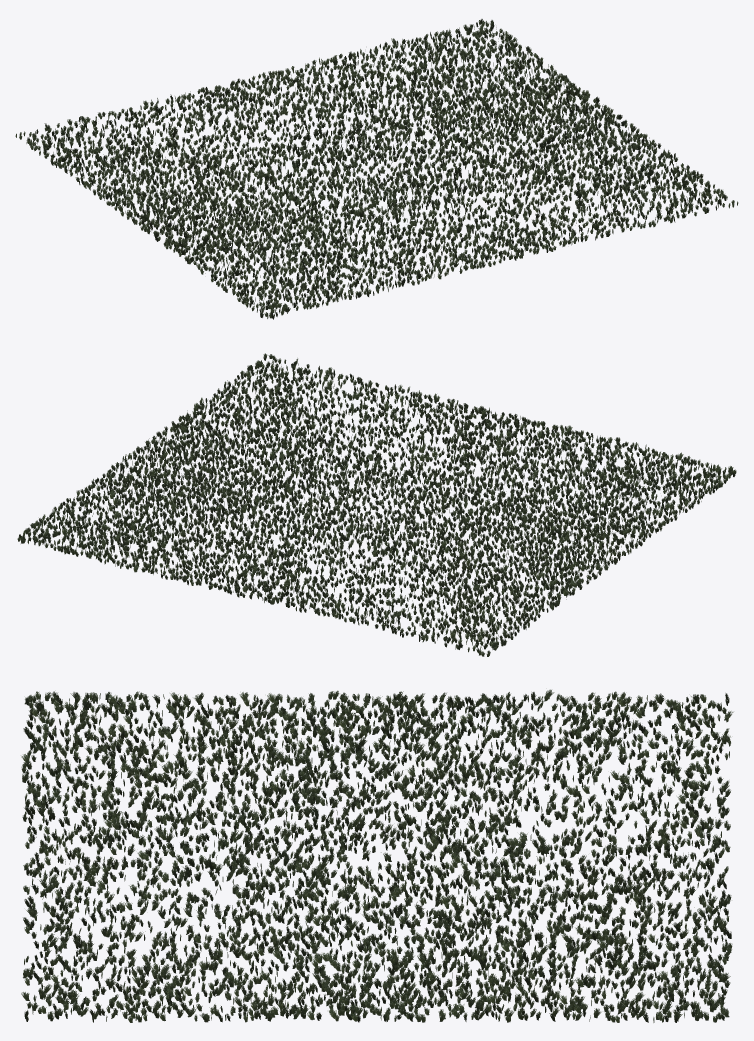
Rendered from GrassPlaneB.obj.
The picture shows the model from 3 angles, top to bottom: view 1: azimuth 30°, elevation 25°; view 2: azimuth 150°, elevation 25°; view 3: azimuth 270°, elevation 25°; orthographic projection. The views are drawn at different scales.
Parts seen in each view (by area): view 1: default; view 2: default; view 3: default.
Part boxes in pixels (x1,y1,x2,y2): default: (15, 19, 738, 319); default: (17, 353, 736, 656); default: (21, 689, 733, 1022).
Size of the model in its own units: 5146 by 105 by 4792.
Materials: 1 (1 with a texture image).
